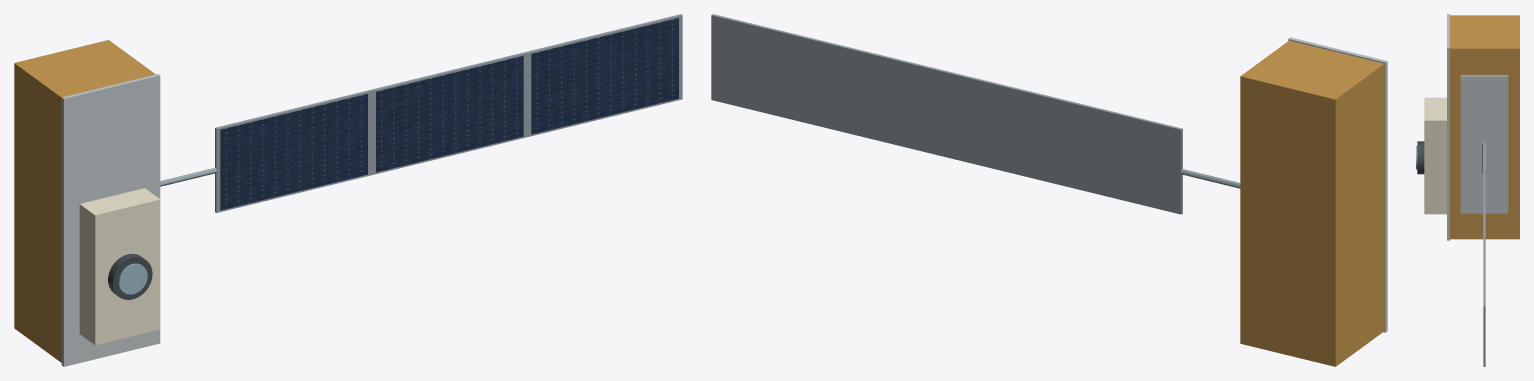
The model's file is aqua.glb.
3 views of the same model, side by side, from view 1: azimuth 30°, elevation 25°; view 2: azimuth 150°, elevation 25°; view 3: azimuth 270°, elevation 25° (orthographic). The views are drawn at different scales.
Visible parts, largest first — view 1: Photovoltaic laminates (×3), Equipment module, Payload deck, Instrument housing, Array frame (×3), Optical baffle, Optical aperture; view 2: Equipment module, Array frame (×3), Payload deck; view 3: Equipment module, Thermal radiator, Instrument housing, Payload deck, Array frame (×3), Optical baffle, Solar array drive.
Boxes of the visible parts, <box> form: Photovoltaic laminates (×3): <box>220,18,678,210</box>; Equipment module: <box>14,40,155,362</box>; Payload deck: <box>61,74,160,366</box>; Instrument housing: <box>79,188,160,345</box>; Array frame (×3): <box>215,14,682,212</box>; Optical baffle: <box>108,253,152,299</box>; Optical aperture: <box>118,263,147,294</box>; Equipment module: <box>1240,40,1384,366</box>; Array frame (×3): <box>711,14,1182,214</box>; Payload deck: <box>1288,37,1387,332</box>; Equipment module: <box>1450,15,1519,239</box>; Thermal radiator: <box>1460,75,1508,213</box>; Instrument housing: <box>1424,97,1446,214</box>; Payload deck: <box>1447,14,1449,240</box>; Array frame (×3): <box>1483,142,1485,366</box>; Optical baffle: <box>1417,141,1424,174</box>; Solar array drive: <box>1482,144,1486,173</box>.
Size of the model in its own units: 17.02 by 6.77 by 3.3.
7 materials, 1 textured.
